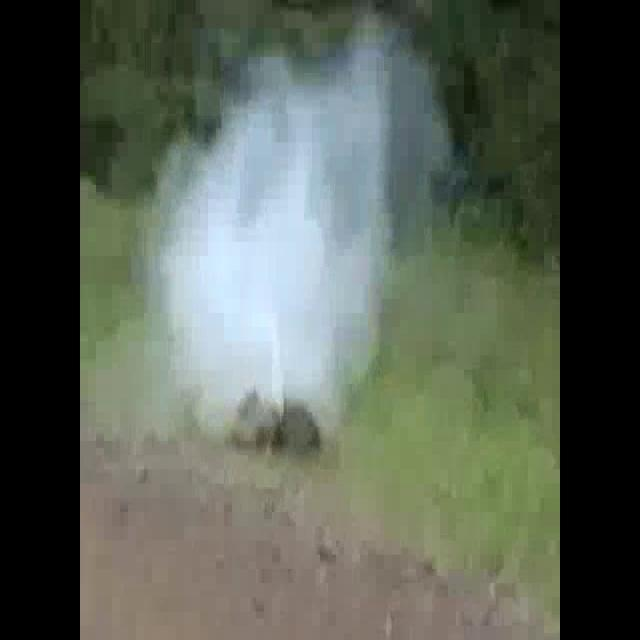Smoke: (148, 8, 452, 421)
